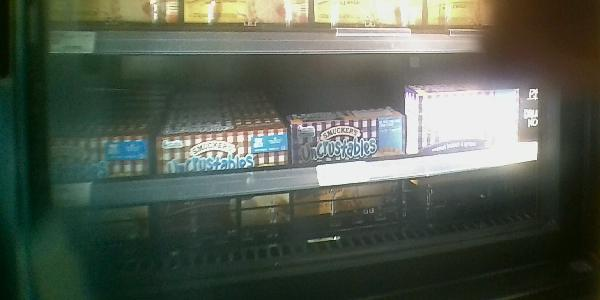icecream: (157, 130, 291, 229), (291, 117, 408, 205), (48, 136, 147, 219)
